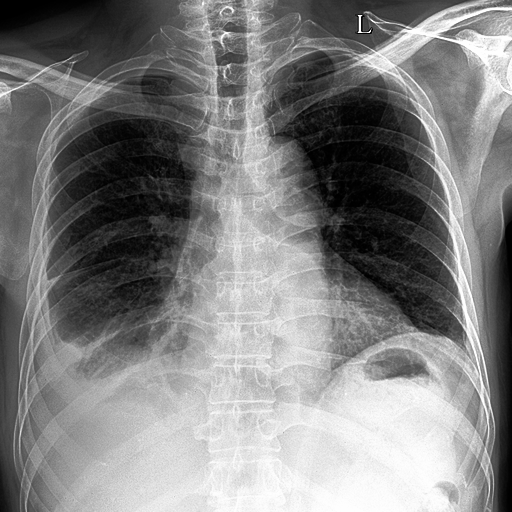Pleural effusion: (20, 267, 144, 403)
